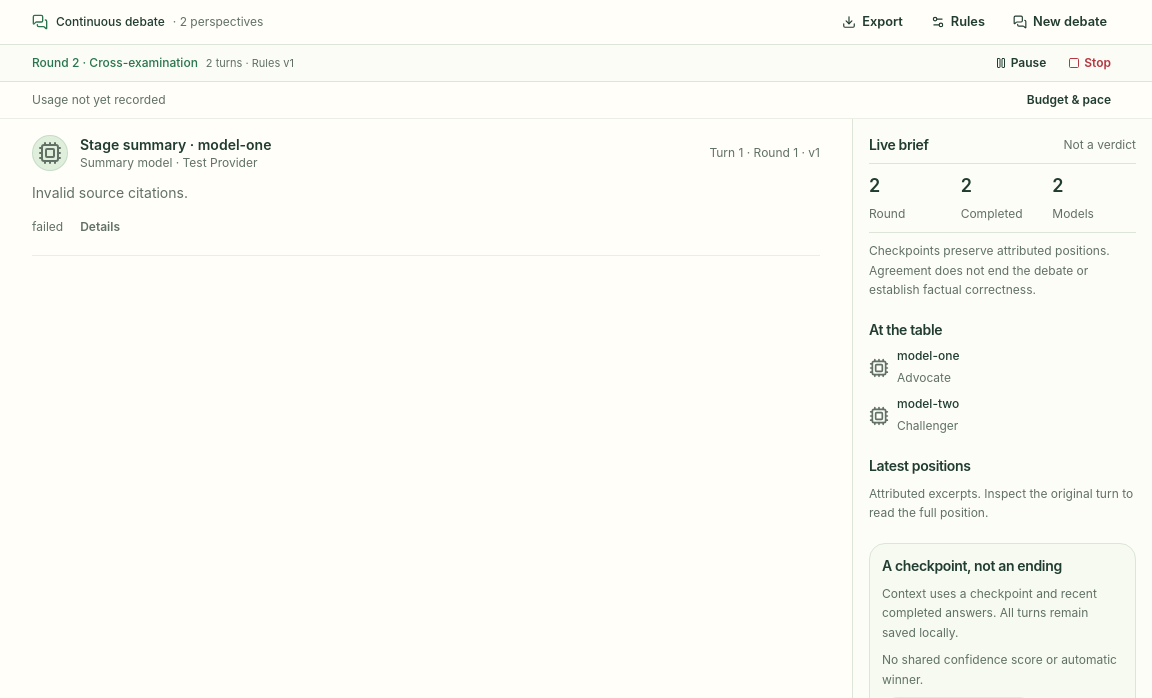
Test case: a rejected summary keeps its original response in Details without presenting parsed points
This screenshot has width=1152, height=698.
Expected: the text "Invalid source citations." is shown, 32,184 -> 188,201
Expected: the text "{\"new_ideas\":[{\"text\":\"Unsupported statement\",\"sources\":[999]}]}" is not shown
Click the button "Details" at (100, 227), box 71,215 -> 129,239
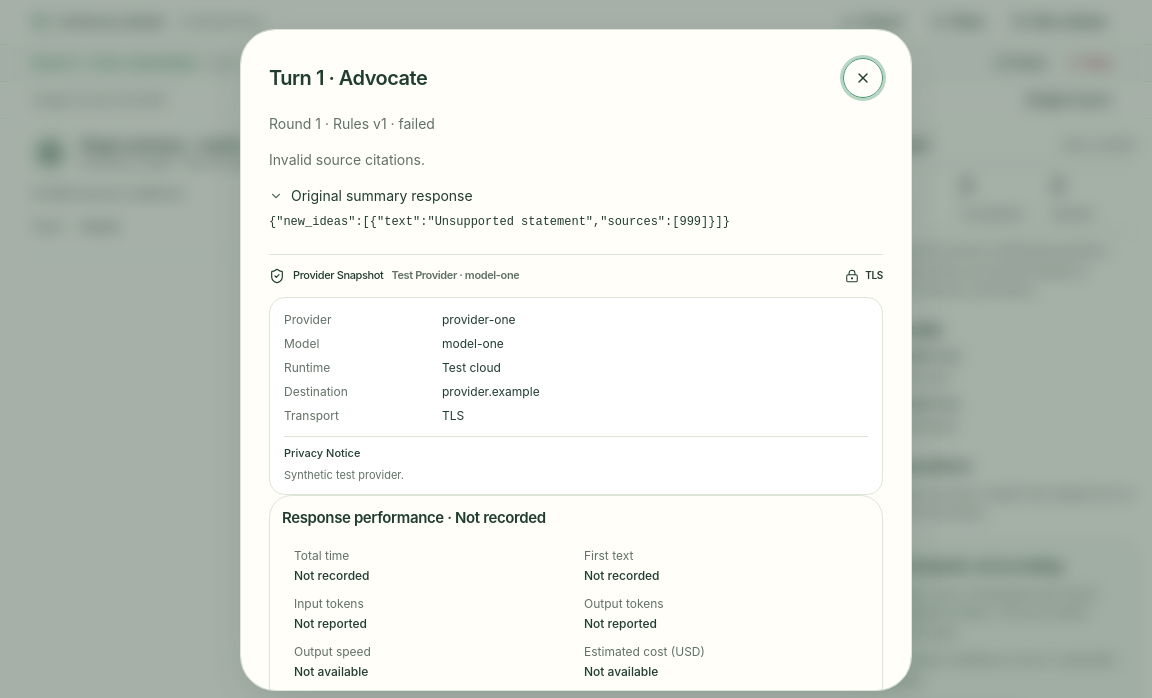
Expected: the button "Original summary response" is shown, 269,186 -> 883,206
Expected: the text "{\"new_ideas\":[{\"text\":\"Unsupported statement\",\"sources\":[999]}]}" is shown, 269,215 -> 730,229
